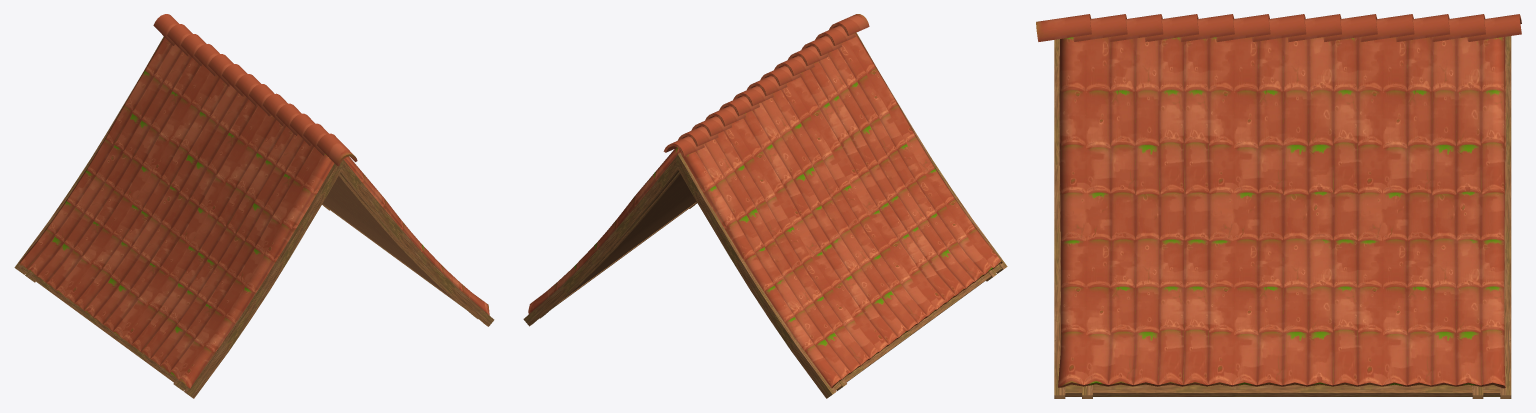
File: Roof_RoundTiles_8x8.glb
3 renders of one model, left to right at view 1: azimuth 30°, elevation 25°; view 2: azimuth 150°, elevation 25°; view 3: azimuth 270°, elevation 25°, orthographic. The views are drawn at different scales.
Parts seen in each view (by area): view 1: Roof_RoundTiles_8x8; view 2: Roof_RoundTiles_8x8; view 3: Roof_RoundTiles_8x8.
Part boxes in pixels (x1,y1,x2,y2): Roof_RoundTiles_8x8: (14, 14, 494, 398); Roof_RoundTiles_8x8: (523, 14, 1007, 398); Roof_RoundTiles_8x8: (1036, 14, 1521, 398).
Size of the model in its own units: 9.95 by 6.78 by 10.33.
Materials: 2 (2 with a texture image).
